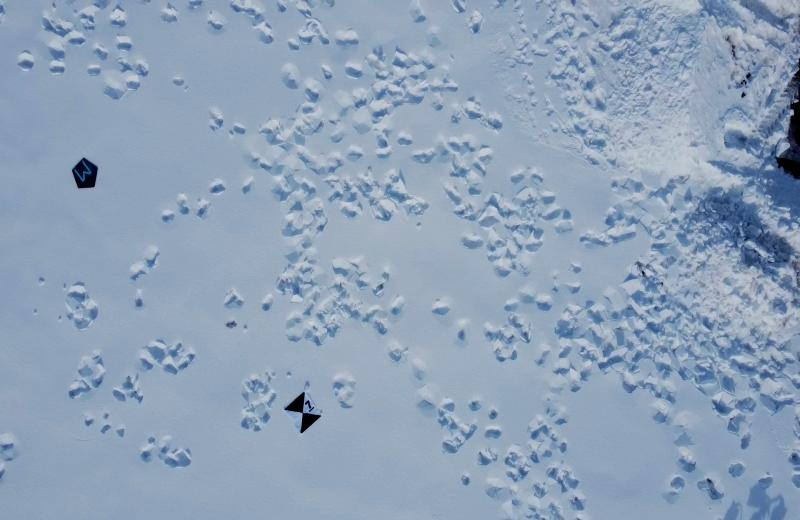Pentagon: (70, 155, 101, 189)
